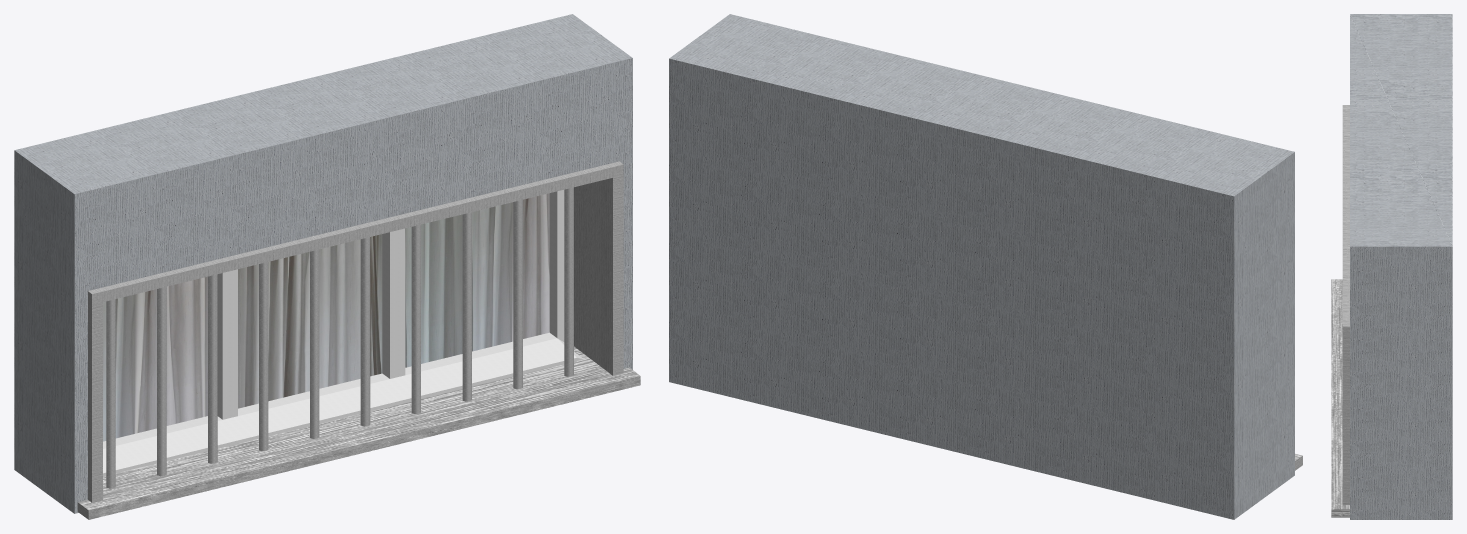
The model's file is KellerWindow.glb.
3 views of the same model, side by side, from view 1: azimuth 30°, elevation 25°; view 2: azimuth 150°, elevation 25°; view 3: azimuth 270°, elevation 25° (orthographic). The views are drawn at different scales.
Visible parts, largest first — view 1: Cube, Plane; view 2: Cube; view 3: Cube.
Boxes of the visible parts, x1,y1,x2,y2 form: Cube: (14,14,640,519); Plane: (106,187,573,488); Cube: (669,14,1302,519); Cube: (1331,14,1452,519).
Bounding box in the file's own units: 5.36 × 2.93 × 1.18.
5 materials, 5 textured.
